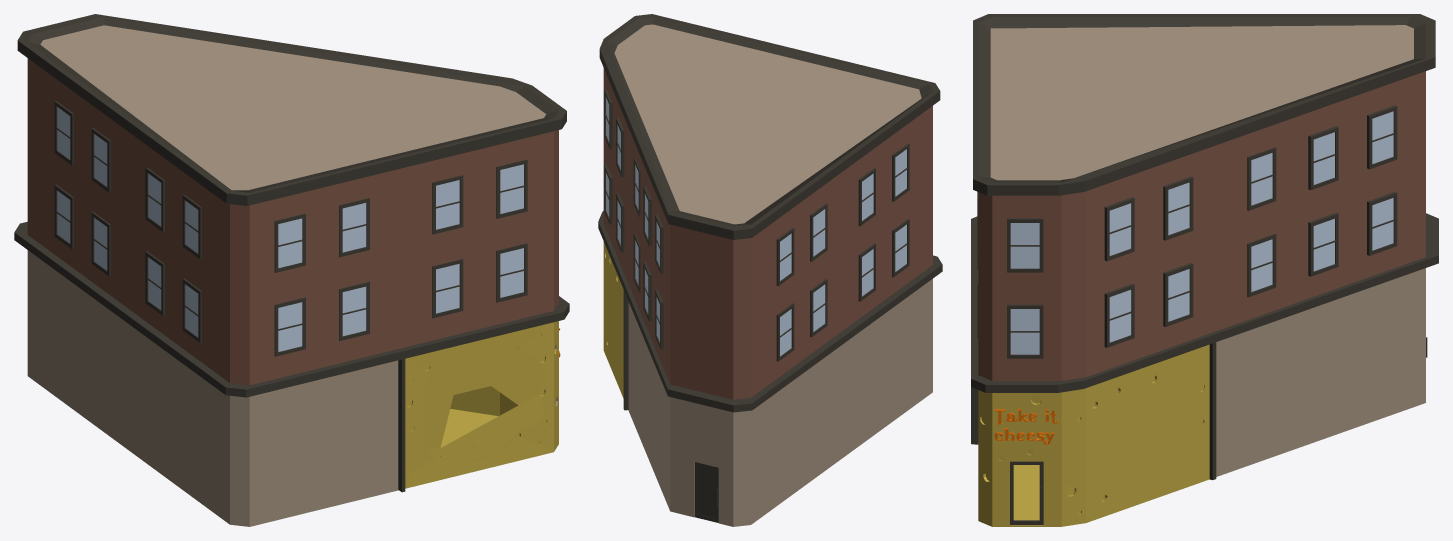
The model's file is CheeseBuilding.fbx.
The picture shows the model from 3 angles, left to right: view 1: azimuth 30°, elevation 25°; view 2: azimuth 150°, elevation 25°; view 3: azimuth 270°, elevation 25°; orthographic projection. The views are drawn at different scales.
Parts seen in each view (by area): view 1: Cube; view 2: Cube; view 3: Cube.
Boxes of the visible parts, x1=… form: Cube: x1=14, y1=14, x2=569, y2=526; Cube: x1=598, y1=14, x2=942, y2=526; Cube: x1=971, y1=14, x2=1438, y2=526.
Bounding box in the file's own units: 1400 × 1303 × 1600.
